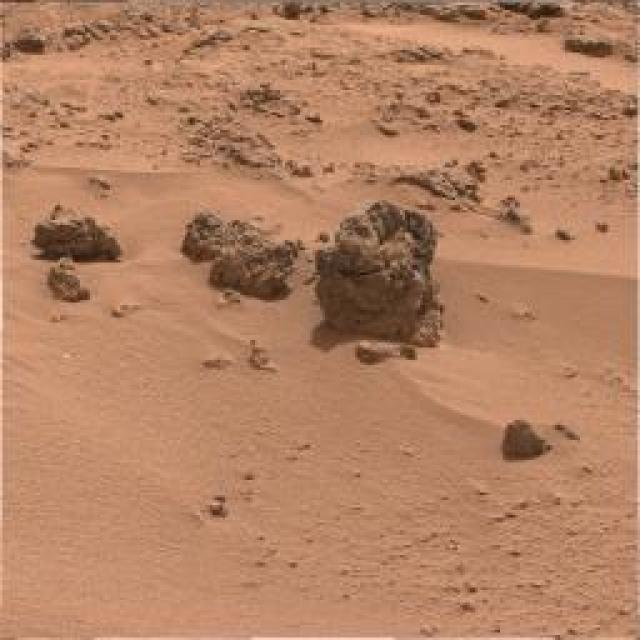rock: (312, 198, 448, 344), (203, 230, 301, 298), (31, 200, 123, 258), (374, 0, 538, 28), (180, 212, 240, 262), (502, 417, 547, 463), (46, 257, 89, 300), (489, 0, 573, 20), (558, 35, 618, 56)
